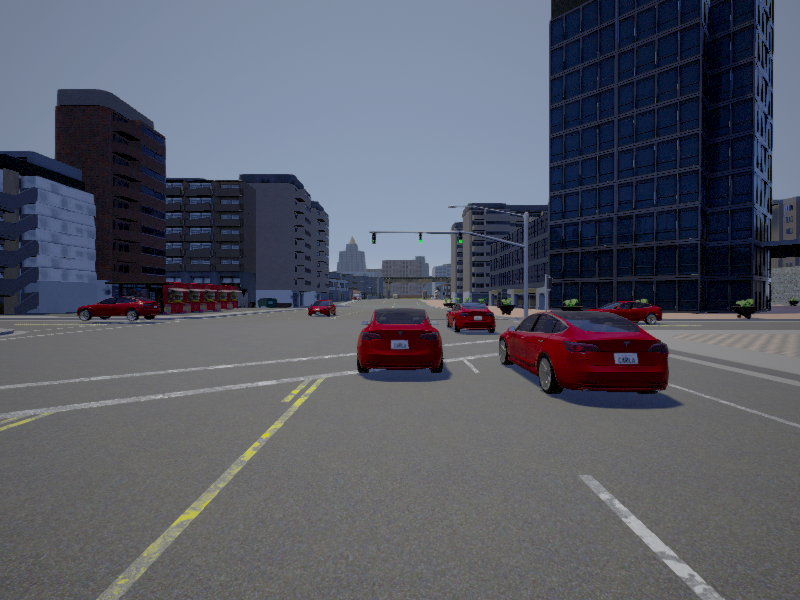Attacker: (78, 296, 160, 323)
Benign: (498, 313, 669, 395), (356, 310, 444, 373), (593, 299, 663, 326), (449, 305, 498, 332), (308, 301, 336, 317)
